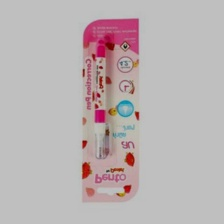book: (79, 17, 140, 204)
correction_fluid: (90, 33, 112, 164)
